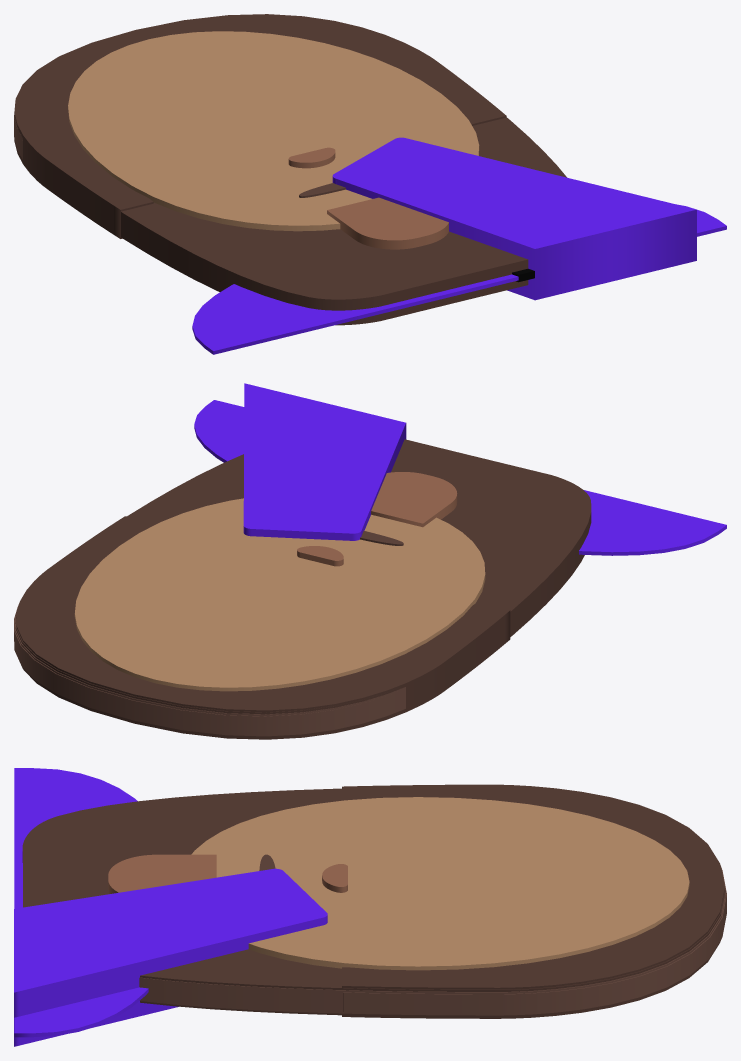
File: emoji_u1f926_1f3fd_200d_2640.glb
The picture shows the model from 3 angles, top to bottom: view 1: azimuth 30°, elevation 25°; view 2: azimuth 150°, elevation 25°; view 3: azimuth 270°, elevation 25°; orthographic projection. The views are drawn at different scales.
Parts seen in each view (by area): view 1: emoji_u1f926_1f3fd_200d_2640; view 2: emoji_u1f926_1f3fd_200d_2640; view 3: emoji_u1f926_1f3fd_200d_2640.
Boxes of the visible parts, <box> form: emoji_u1f926_1f3fd_200d_2640: <box>14,14,726,354</box>; emoji_u1f926_1f3fd_200d_2640: <box>14,383,726,739</box>; emoji_u1f926_1f3fd_200d_2640: <box>14,768,726,1046</box>.
Bounding box in the file's own units: 0.0294 × 0.0028 × 0.0333.
